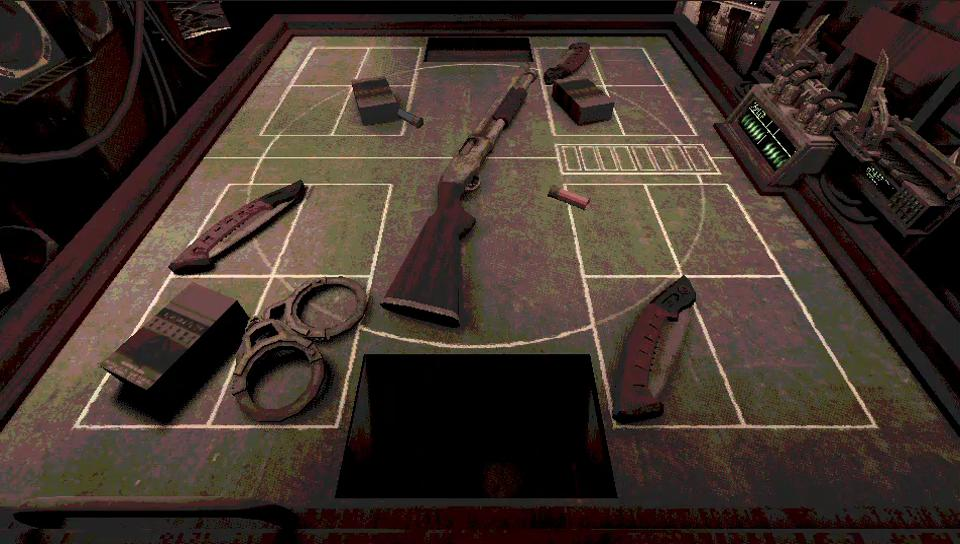ally: (1, 153, 953, 508)
cigar: (99, 284, 238, 389), (351, 77, 406, 133), (552, 76, 614, 125)
doubledamage: (608, 277, 697, 424), (169, 180, 305, 274), (542, 42, 590, 84)
emptyspace: (685, 278, 876, 427), (273, 183, 387, 280), (566, 184, 684, 277), (647, 182, 727, 278), (259, 84, 351, 134), (607, 85, 696, 134), (294, 45, 364, 86), (594, 48, 669, 84), (356, 46, 418, 86)
enemyspace: (211, 29, 723, 146)
gun: (381, 68, 537, 327)
handcuff: (232, 276, 367, 422)
